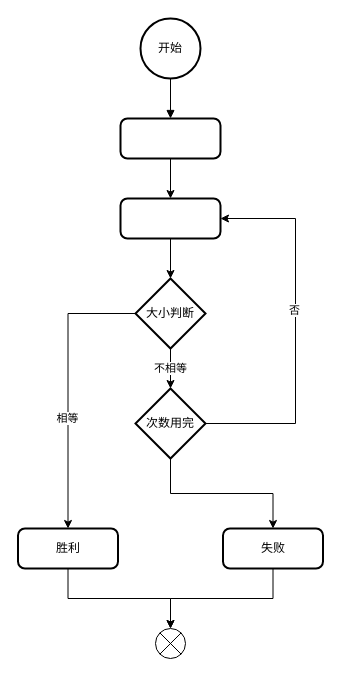
Image size: 341x676. Some labels were removed from this diagram. Here are the shapes that lost their labels. From the top down, the box of each, then its label:
(119, 117, 221, 159): 创建随机数
(119, 197, 221, 239): 用户输入
